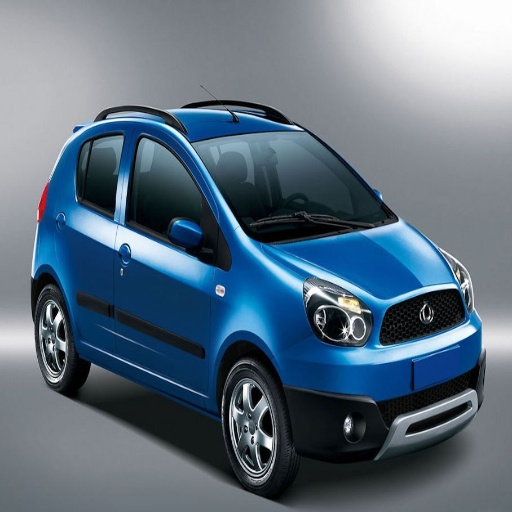front_bumper: (278, 289, 486, 461)
front_right_door: (115, 125, 219, 402)
front_right_light: (303, 277, 368, 345)
